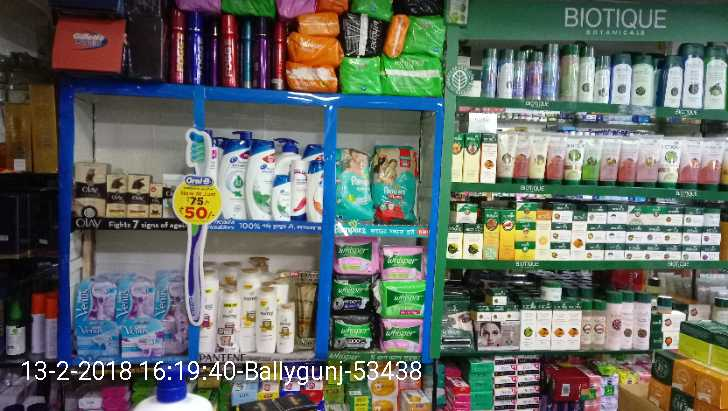venus: (76, 320, 122, 357), (122, 317, 163, 357), (76, 279, 115, 320), (151, 272, 186, 315), (115, 279, 151, 315)
